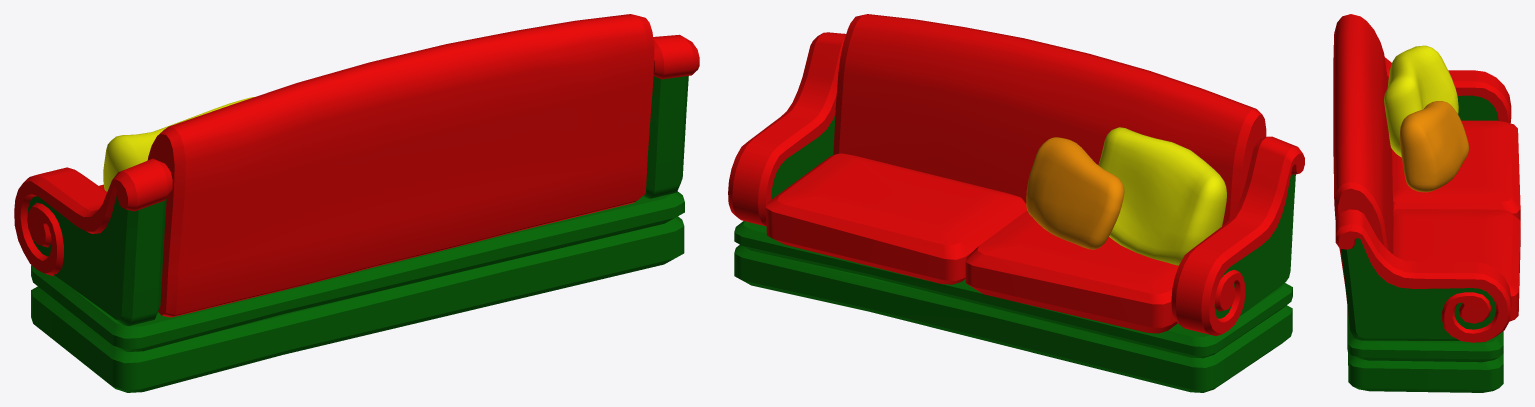
File: LR_Sofa.fbx
The picture shows the model from 3 angles, left to right: view 1: azimuth 30°, elevation 25°; view 2: azimuth 150°, elevation 25°; view 3: azimuth 270°, elevation 25°; orthographic projection. The views are drawn at different scales.
Visible parts, largest first — view 1: LR_Sofa; view 2: LR_Sofa; view 3: LR_Sofa.
Boxes of the visible parts, x1,y1,x2,y2 form: LR_Sofa: (14, 14, 699, 392); LR_Sofa: (728, 14, 1304, 392); LR_Sofa: (1333, 14, 1520, 392).
Bounding box in the file's own units: 306 × 139 × 116.
